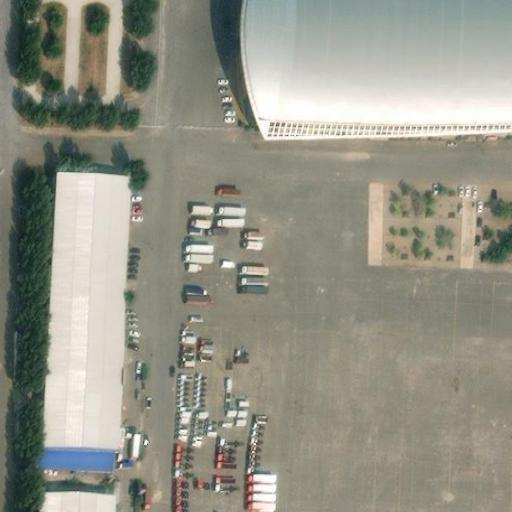building: (240, 0, 512, 141), (46, 167, 127, 464), (33, 483, 113, 512), (137, 484, 153, 507)
